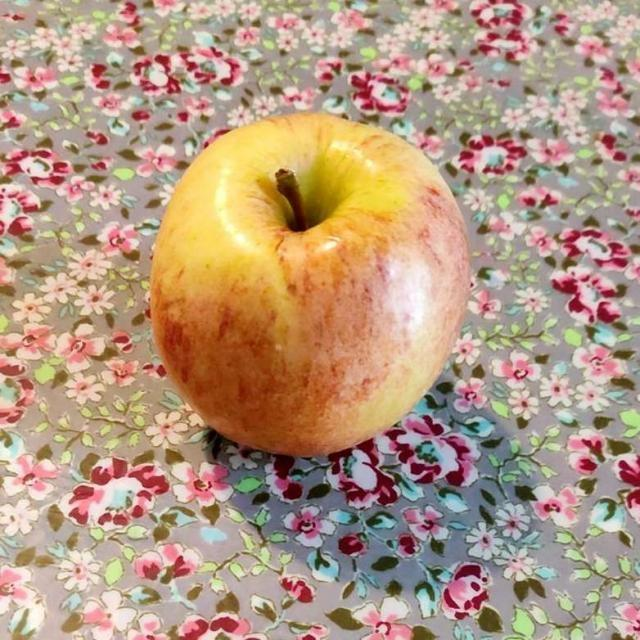apple: (156, 102, 466, 451)
